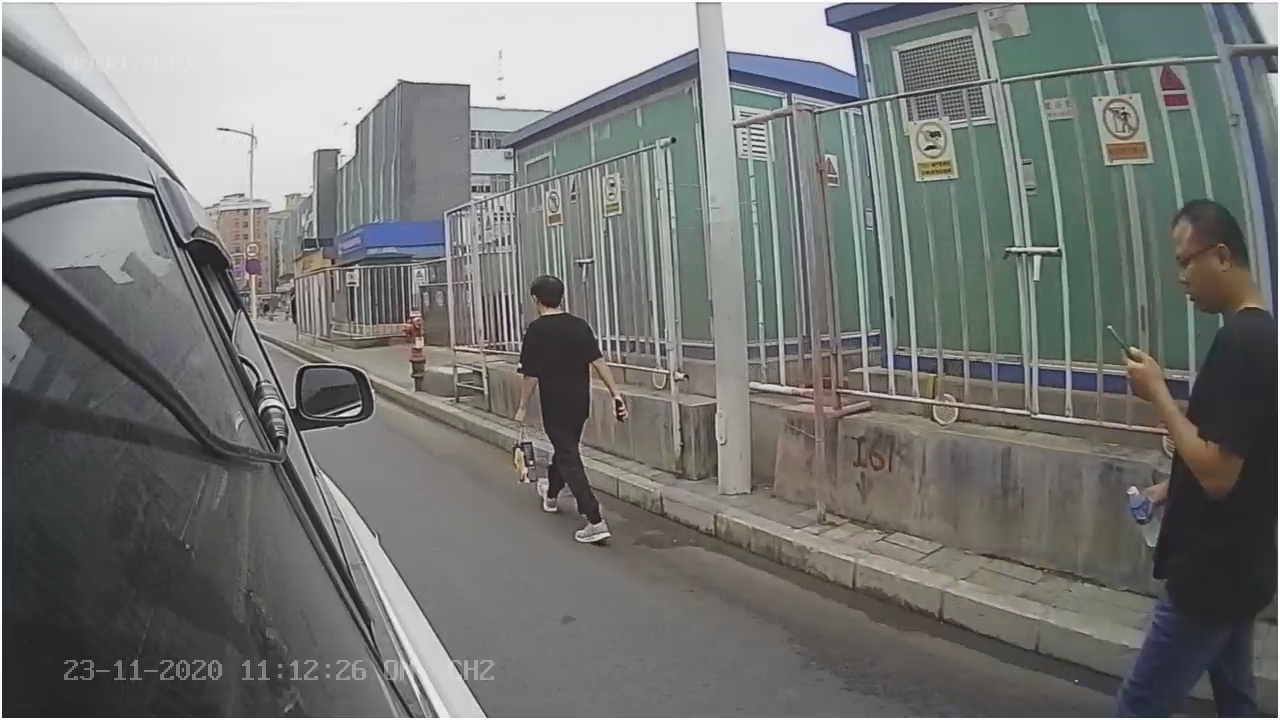person: (506, 271, 629, 548)
